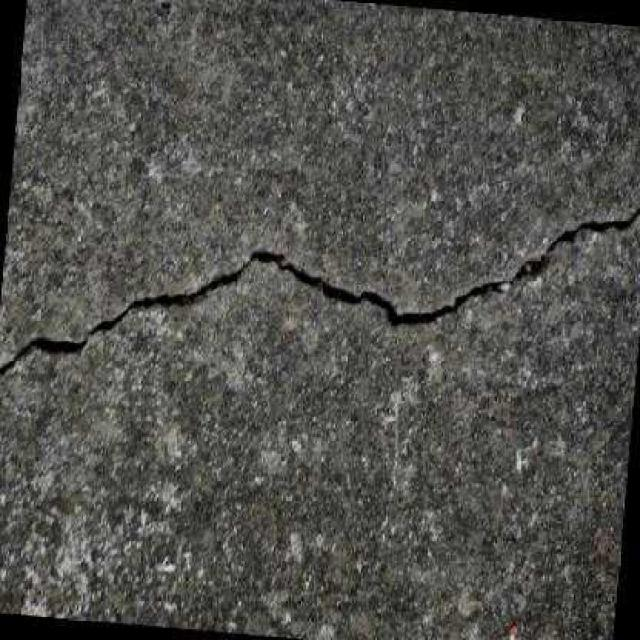D00: (0, 206, 640, 374)
